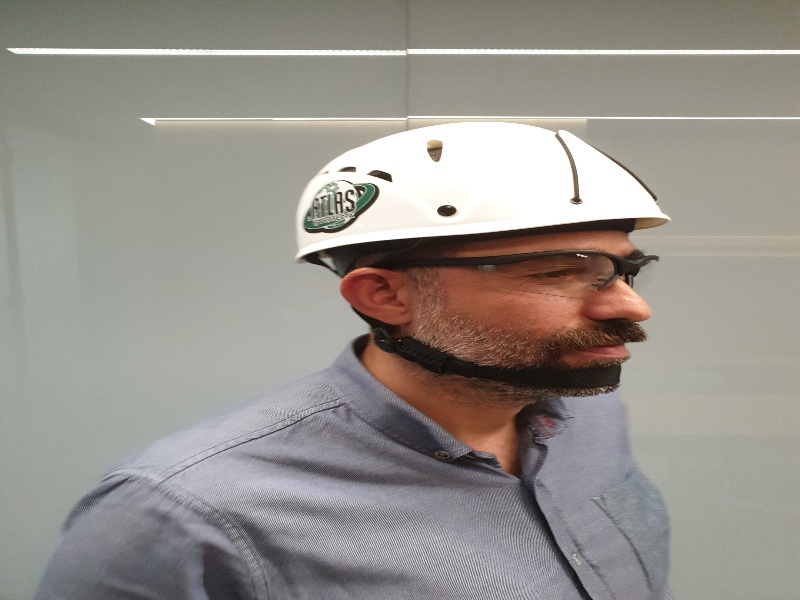Baret: (295, 120, 671, 245)
Gozluk: (383, 247, 661, 300)
